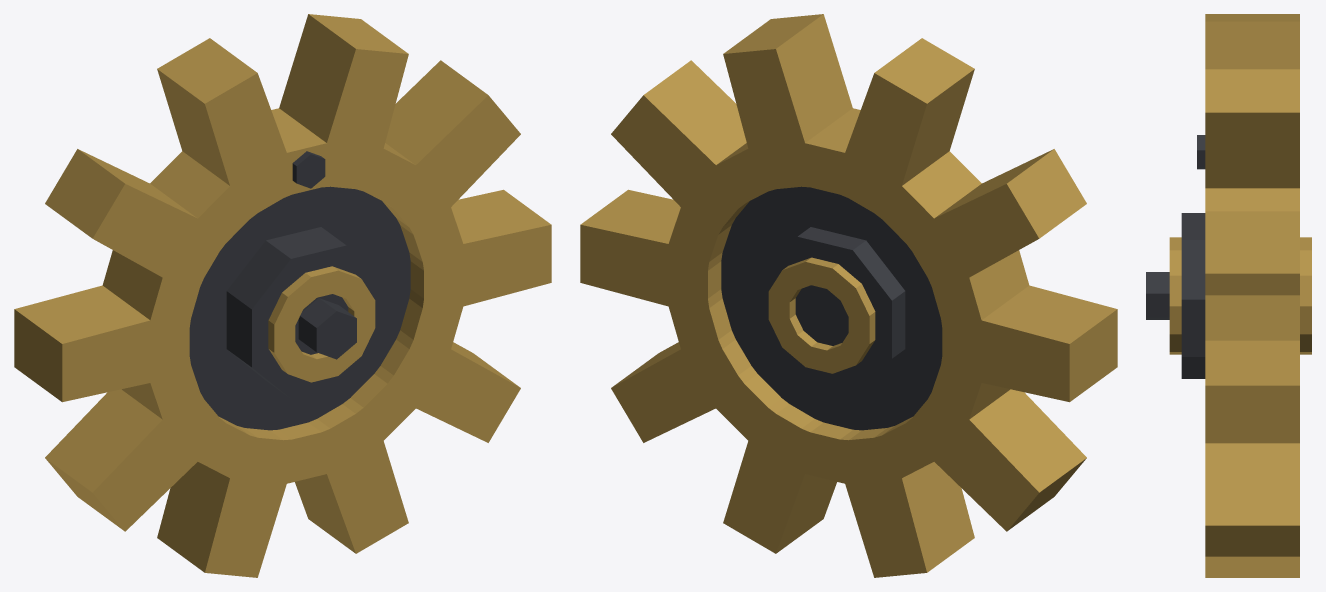
File: gear_xs.fbx
3 views of the same model, side by side, from view 1: azimuth 30°, elevation 25°; view 2: azimuth 150°, elevation 25°; view 3: azimuth 270°, elevation 25° (orthographic).
Parts seen in each view (by area): view 1: Gear_Puzzle_XS_Rim, Gear_Puzzle_XS_Web, Gear_Puzzle_XS_Hub, Gear_Puzzle_XS_SizeDots; view 2: Gear_Puzzle_XS_Rim, Gear_Puzzle_XS_Web, Gear_Puzzle_XS_Hub; view 3: Gear_Puzzle_XS_Rim, Gear_Puzzle_XS_Hub, Gear_Puzzle_XS_SizeDots.
Boxes of the visible parts, left/top/right/bottom form: Gear_Puzzle_XS_Rim: left=14, top=14, right=551, bottom=577; Gear_Puzzle_XS_Web: left=189, top=186, right=410, bottom=430; Gear_Puzzle_XS_Hub: left=226, top=227, right=385, bottom=398; Gear_Puzzle_XS_SizeDots: left=292, top=151, right=325, bottom=188; Gear_Puzzle_XS_Rim: left=580, top=14, right=1117, bottom=577; Gear_Puzzle_XS_Web: left=721, top=186, right=942, bottom=430; Gear_Puzzle_XS_Hub: left=758, top=227, right=905, bottom=390; Gear_Puzzle_XS_Rim: left=1205, top=14, right=1299, bottom=577; Gear_Puzzle_XS_Hub: left=1146, top=213, right=1311, bottom=378; Gear_Puzzle_XS_SizeDots: left=1197, top=135, right=1205, bottom=169.
Size of the model in its own units: 47.3 by 46.64 by 14.
